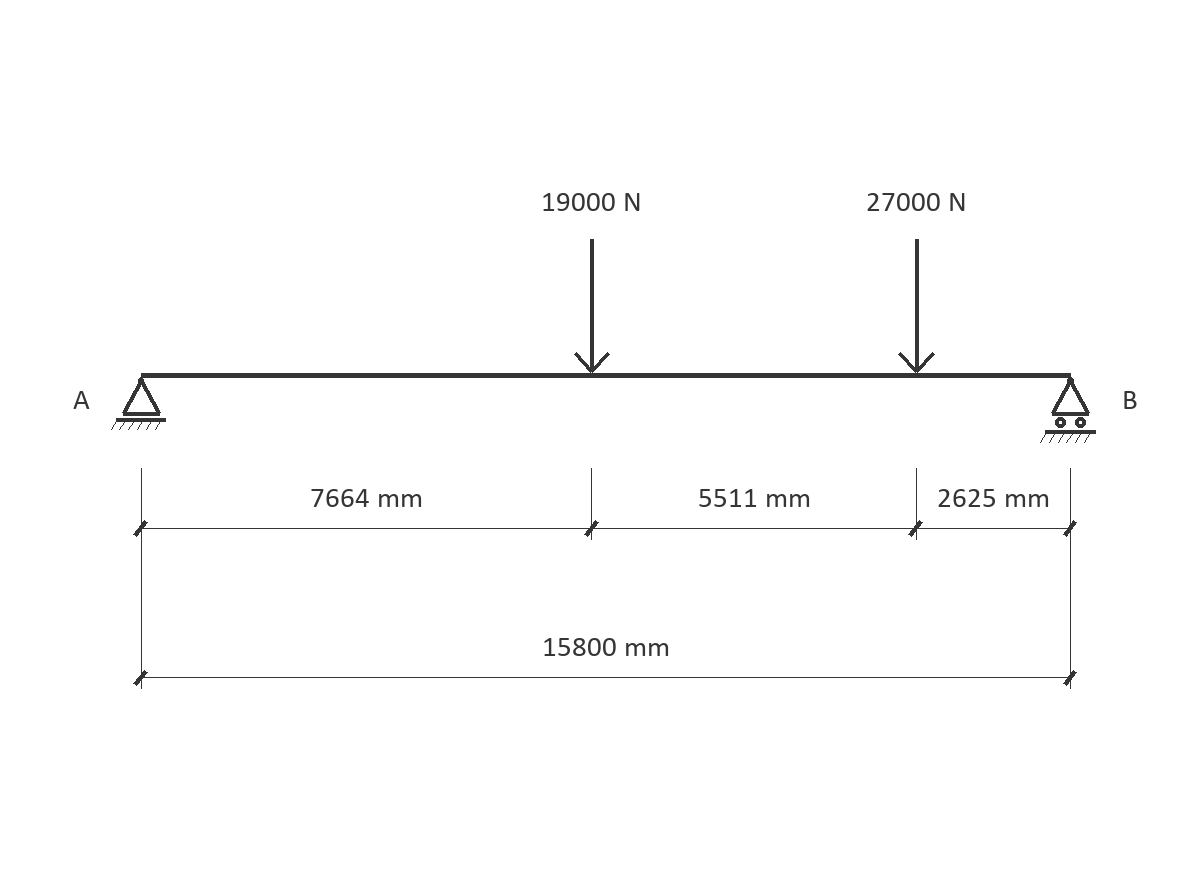pin_support: (111, 377, 166, 430)
point_load: (898, 239, 935, 373), (574, 239, 610, 373)
roller_support: (1040, 377, 1096, 443)
